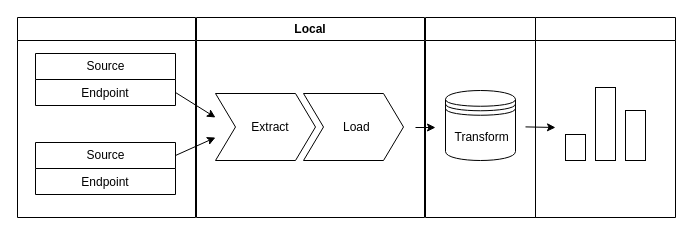
Some shapes in this 693 by 235 pixel diagram are drawn without their labels. The box of each missing label's shape, as (x1, y1, x2, y2) in pixels:
Internet: (16, 16, 196, 218)
On-premise: (424, 16, 536, 218)
Preset.io: (534, 16, 676, 218)
